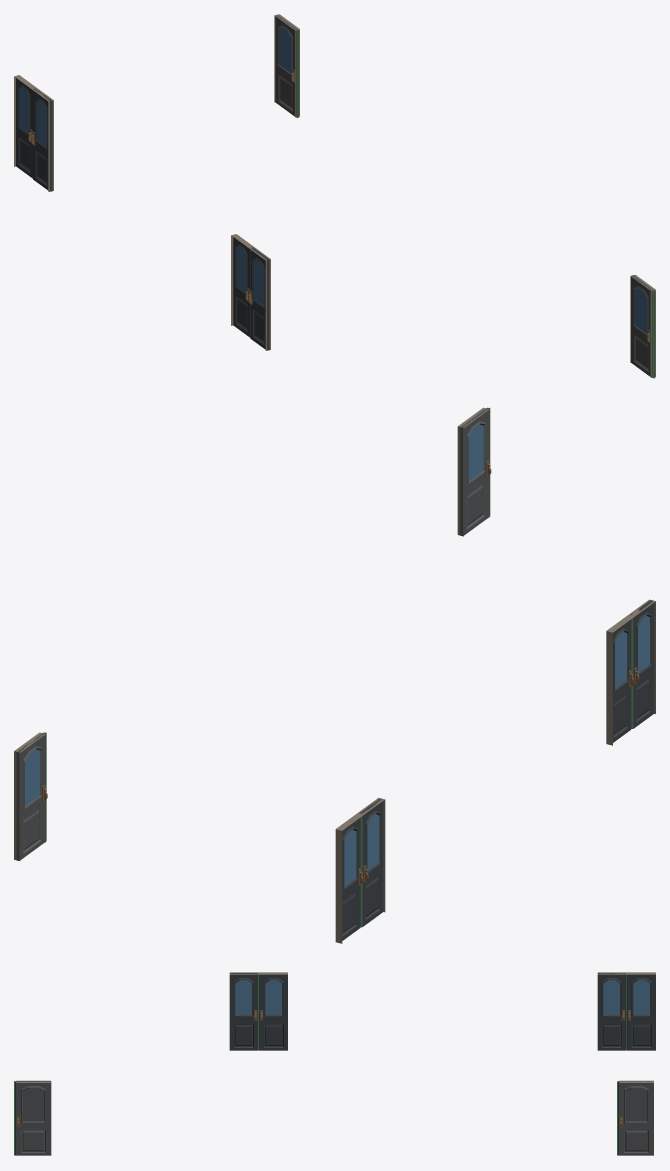
The model's file is Doors.fbx.
The picture shows the model from 3 angles, top to bottom: view 1: azimuth 30°, elevation 25°; view 2: azimuth 150°, elevation 25°; view 3: azimuth 270°, elevation 25°; orthographic projection. The views are drawn at different scales.
Parts seen in each view (by area): view 1: polySurface3335.002, polySurface3335, polySurface3349, polySurface3349.001, polySurface3348, polySurface3348.001, polySurface3338, polySurface3338.001, polySurface3329.002; view 2: polySurface3335, polySurface3335.002, polySurface3349.001, polySurface3349, polySurface3348.001, polySurface3348, polySurface3338.001, polySurface3338, polySurface3329.002, polySurface3329; view 3: polySurface3335.002, polySurface3335, polySurface3349, polySurface3349.001, polySurface3348.001, polySurface3348.
Boxes of the visible parts, x1,y1,x2,y2 form: polySurface3335.002: (631,275,655,378); polySurface3335: (275,15,299,117); polySurface3349: (248,247,269,350); polySurface3349.001: (31,88,52,191); polySurface3348: (233,237,250,337); polySurface3348.001: (16,78,32,178); polySurface3338: (231,234,270,350); polySurface3338.001: (14,75,53,191); polySurface3329.002: (630,274,655,377); polySurface3335: (16,732,47,860); polySurface3335.002: (460,407,491,536); polySurface3349.001: (359,798,383,927); polySurface3349: (630,600,654,728); polySurface3348.001: (342,817,363,940); polySurface3348: (613,619,633,742); polySurface3338.001: (335,797,385,943); polySurface3338: (606,599,655,745); polySurface3329.002: (457,407,489,536); polySurface3329: (14,732,45,860); polySurface3335.002: (14,1081,51,1155); polySurface3335: (617,1081,653,1155); polySurface3349: (229,973,258,1050); polySurface3349.001: (597,973,626,1050); polySurface3348.001: (626,974,655,1050); polySurface3348: (259,974,287,1050).
Size of the model in its own units: 818 by 265 by 2010.
Materials: 1 (1 with a texture image).
